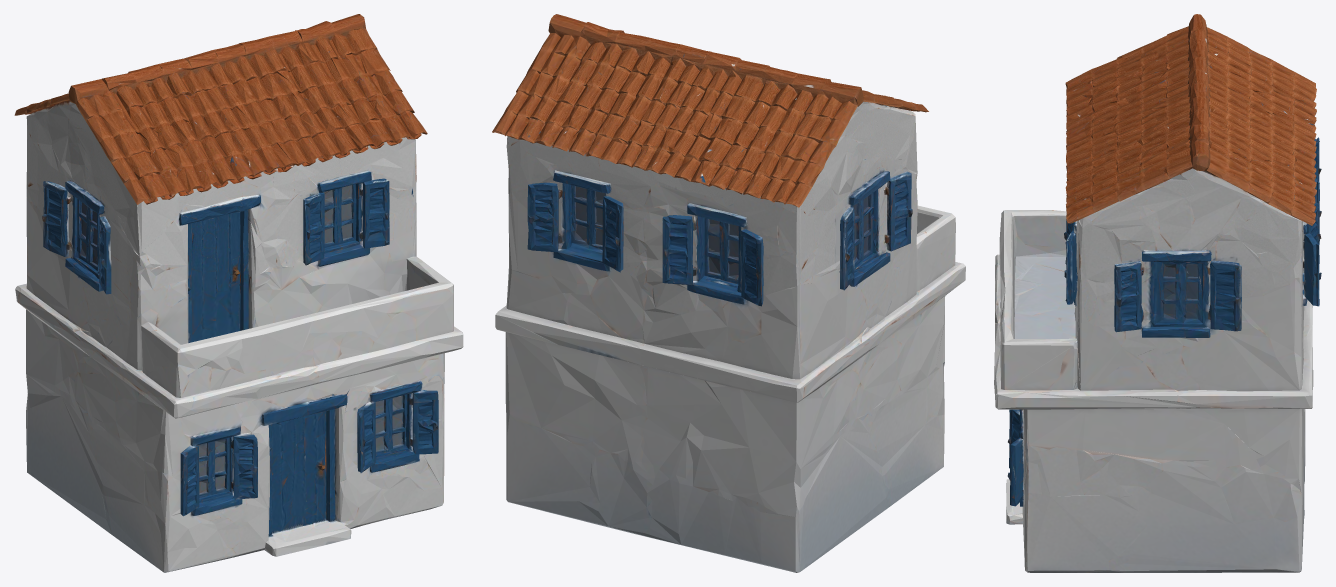
The model's file is villa.glb.
3 renders of one model, left to right at view 1: azimuth 30°, elevation 25°; view 2: azimuth 150°, elevation 25°; view 3: azimuth 270°, elevation 25°, orthographic. The views are drawn at different scales.
Size of the model in its own units: 1.45 by 1.9 by 1.34.
1 material, 1 textured.
